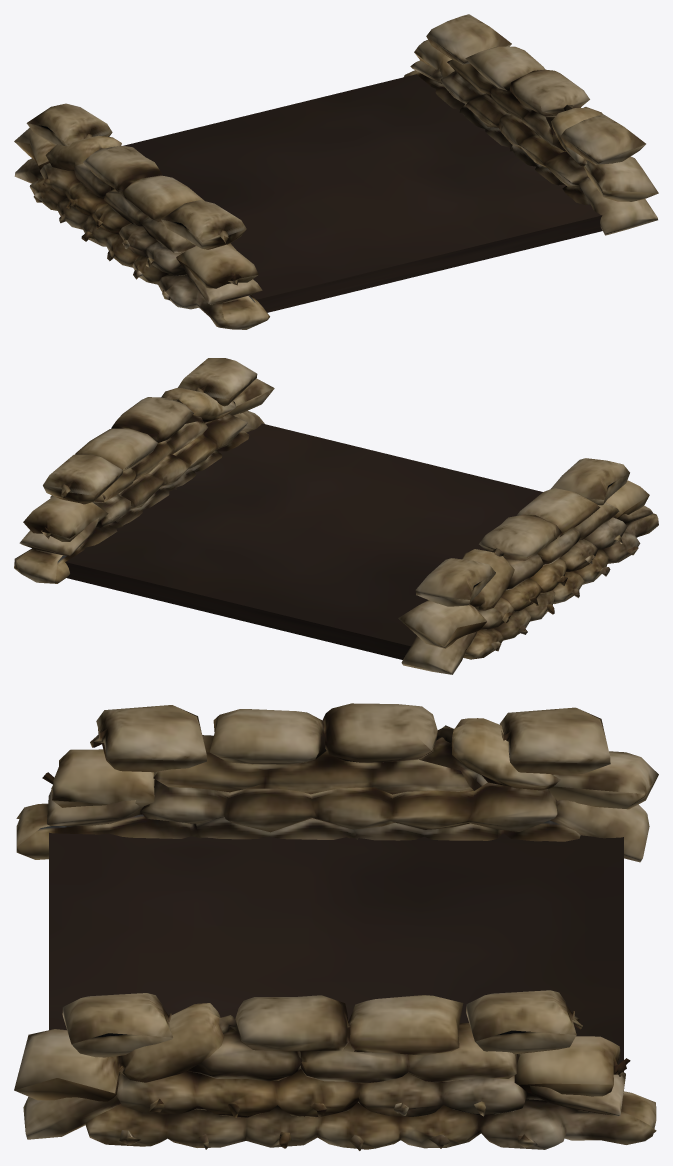
The picture shows the model from 3 angles, top to bottom: view 1: azimuth 30°, elevation 25°; view 2: azimuth 150°, elevation 25°; view 3: azimuth 270°, elevation 25°; orthographic projection. The views are drawn at different scales.
Visible parts, largest first — view 1: Cube_Cube.002, sandbags_01.004, sandbags_01.005; view 2: Cube_Cube.002, sandbags_01.004, sandbags_01.005; view 3: Cube_Cube.002, sandbags_01.005, sandbags_01.004.
Boxes of the visible parts, x1,y1,x2,y2 form: Cube_Cube.002: (124,74,602,312); sandbags_01.004: (14,103,269,329); sandbags_01.005: (404,14,658,235); Cube_Cube.002: (65,423,542,659); sandbags_01.004: (398,458,658,674); sandbags_01.005: (14,358,274,583); Cube_Cube.002: (49,832,623,1071); sandbags_01.005: (14,990,656,1150); sandbags_01.004: (16,703,658,862).
Bounding box in the file's own units: 6.34 × 1.15 × 4.94.
